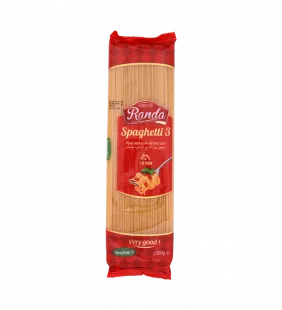RANDA: (99, 19, 182, 285)
